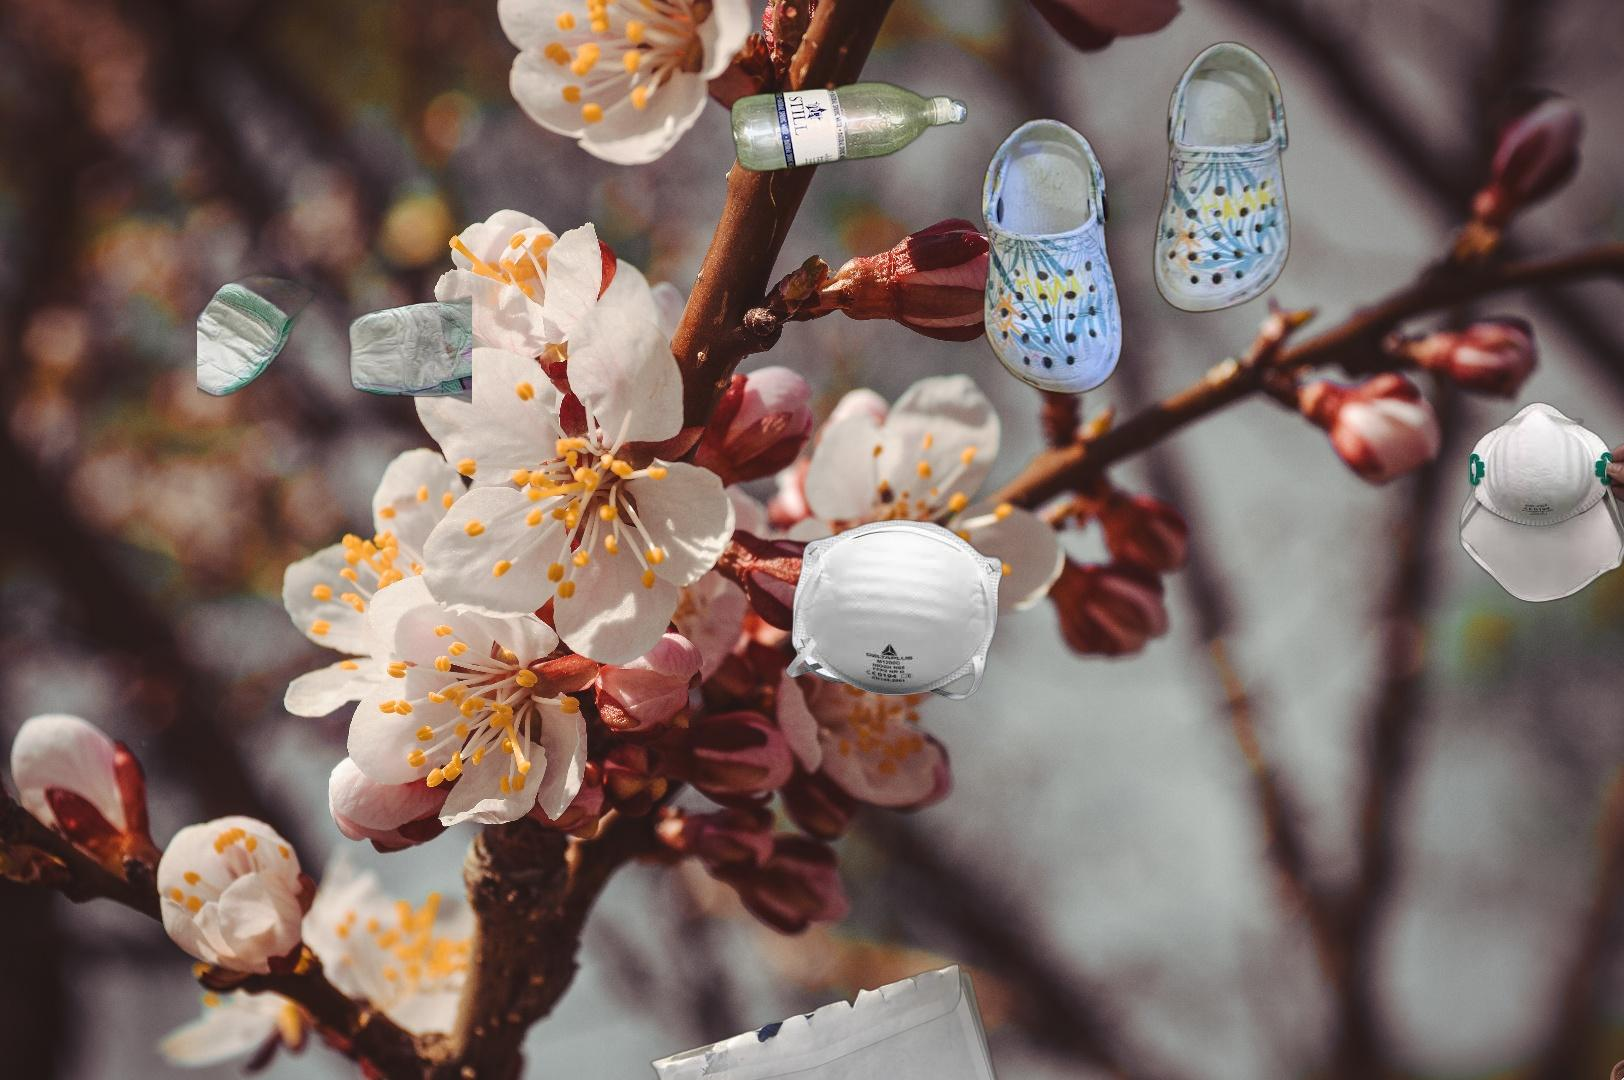paper: (646, 959, 1018, 1080)
plastic-bottles: (673, 76, 972, 513)
shoes: (979, 37, 1294, 399), (1571, 1049, 1624, 1080)
trash: (198, 230, 472, 413), (783, 517, 1007, 703), (1457, 400, 1624, 611)
